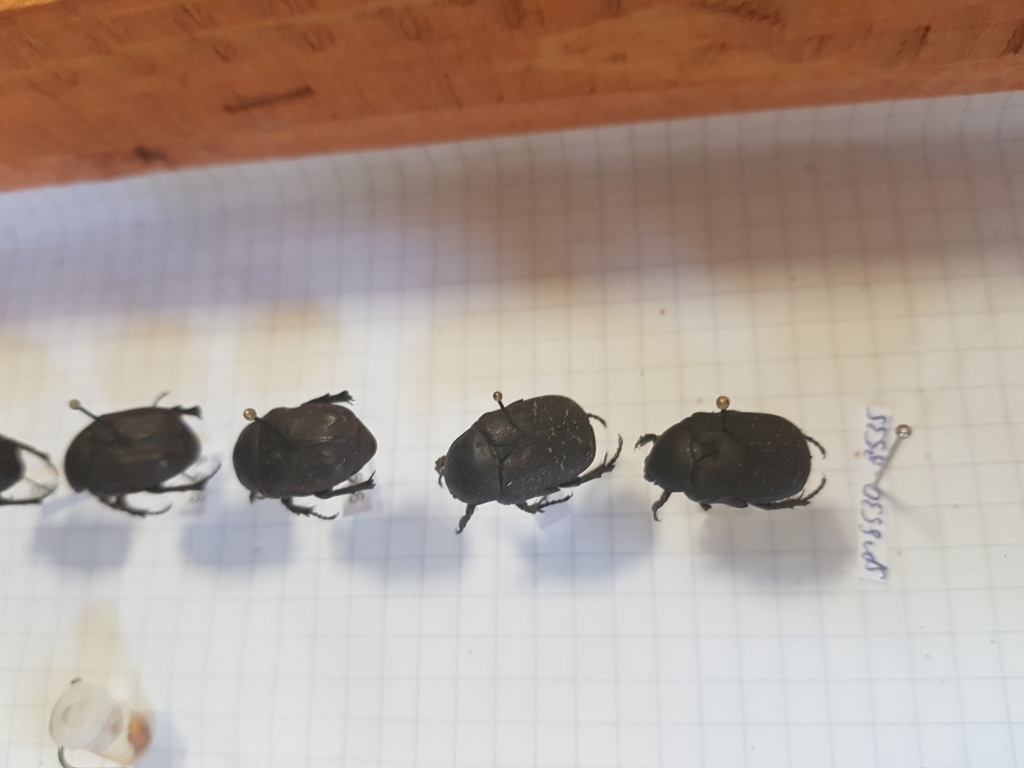Protaetia_oblonga: (428, 381, 627, 533), (634, 404, 828, 529)
